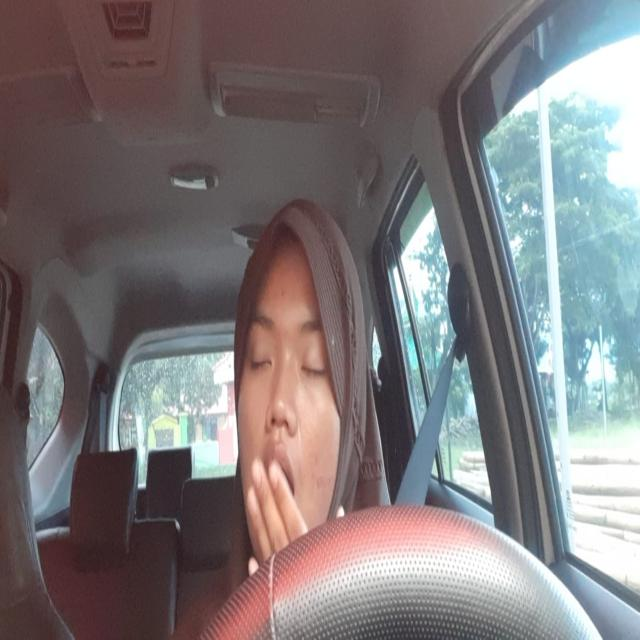no-seatbelt: (242, 318, 328, 396), (249, 450, 308, 529)
